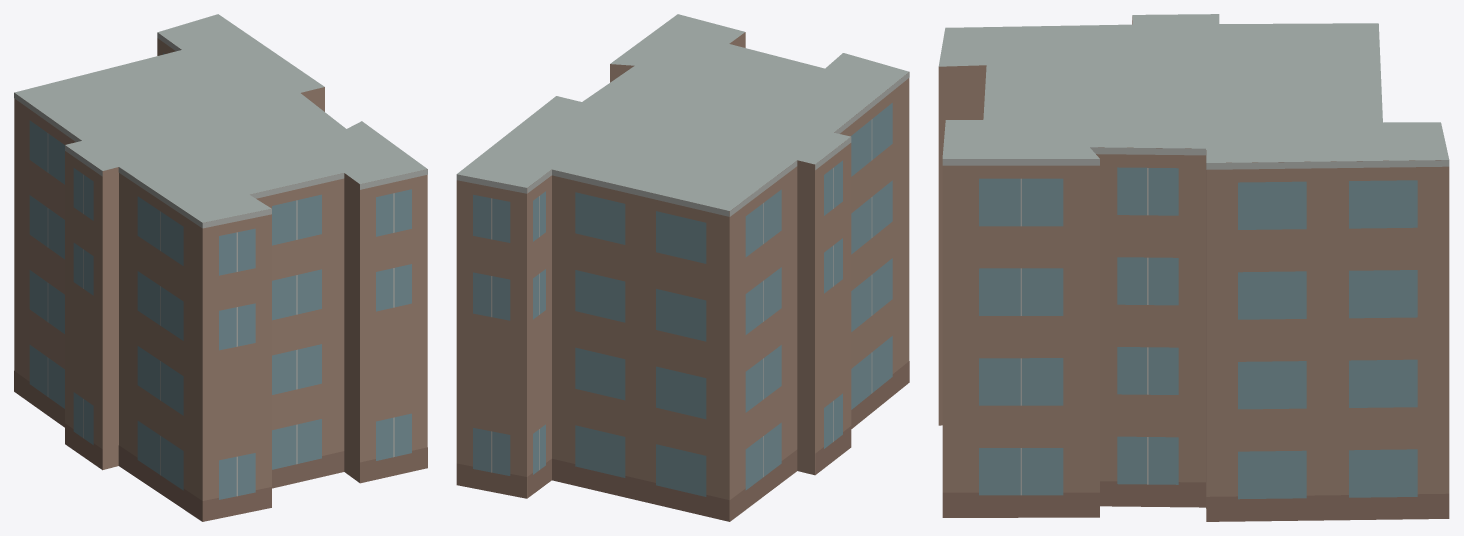
Rendered from survey-upis-32748048.glb.
The picture shows the model from 3 angles, left to right: view 1: azimuth 30°, elevation 25°; view 2: azimuth 150°, elevation 25°; view 3: azimuth 270°, elevation 25°; orthographic projection. The views are drawn at different scales.
Visible parts, largest first — view 1: survey-upis-32748048.tmp; view 2: survey-upis-32748048.tmp; view 3: survey-upis-32748048.tmp.
Part boxes in pixels (x1=…): survey-upis-32748048.tmp: x1=14, y1=14, x2=427, y2=521; survey-upis-32748048.tmp: x1=456, y1=14, x2=909, y2=521; survey-upis-32748048.tmp: x1=938, y1=14, x2=1449, y2=521.
Size of the model in its own units: 11.5 by 12.9 by 16.65.
